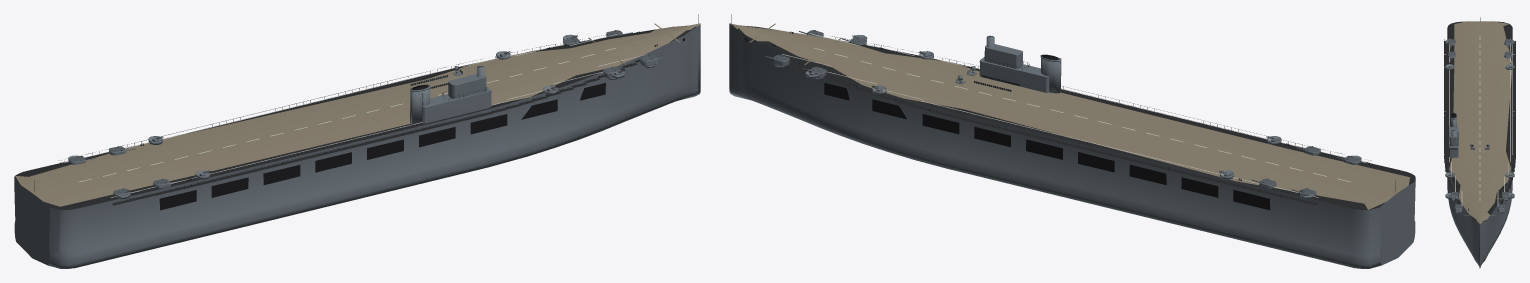
File: yorktown_lod.glb
3 renders of one model, left to right at view 1: azimuth 30°, elevation 25°; view 2: azimuth 150°, elevation 25°; view 3: azimuth 270°, elevation 25°, orthographic. The views are drawn at different scales.
Parts seen in each view (by area): view 1: yorktown_lod; view 2: yorktown_lod; view 3: yorktown_lod.
Part boxes in pixels (box(x1,y1,x2,y2)): yorktown_lod: box(14, 14, 700, 268); yorktown_lod: box(729, 14, 1415, 268); yorktown_lod: box(1444, 17, 1515, 268).
Size of the model in its own units: 251 by 36.48 by 36.83.
